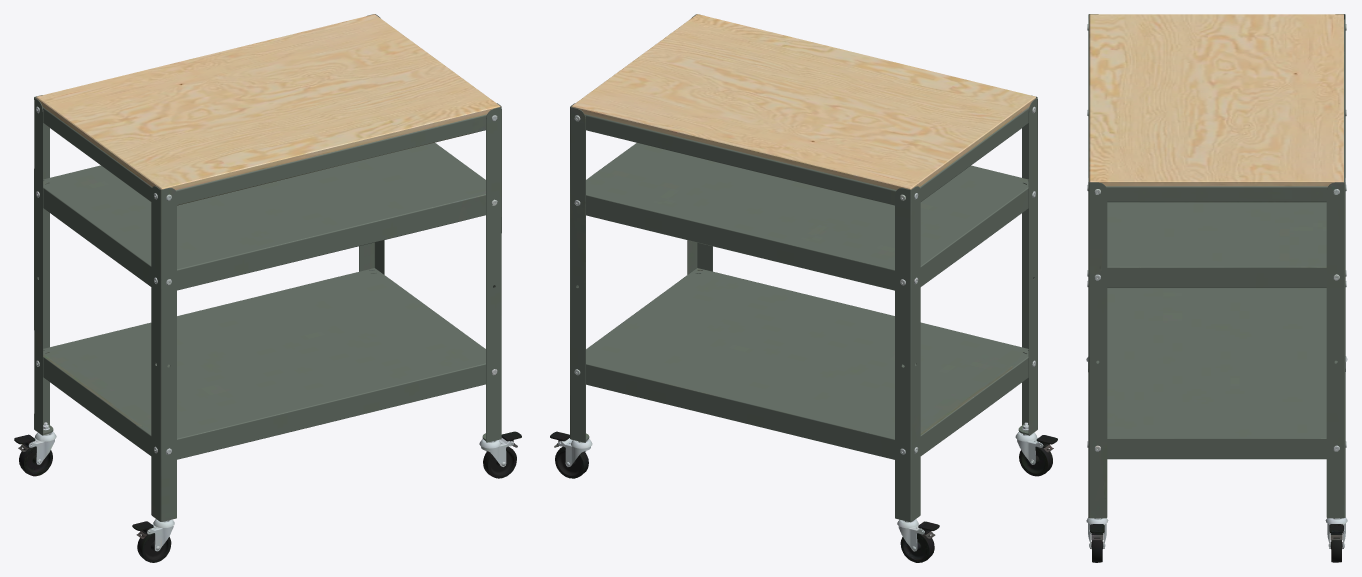
File: 80547384-mini-unity.glb
3 views of the same model, side by side, from view 1: azimuth 30°, elevation 25°; view 2: azimuth 150°, elevation 25°; view 3: azimuth 270°, elevation 25° (orthographic).
Visible parts, largest first — view 1: model; view 2: model; view 3: model.
Part boxes in pixels (x1=…): model: x1=14, y1=14, x2=521, y2=562; model: x1=550, y1=14, x2=1057, y2=562; model: x1=1086, y1=14, x2=1347, y2=562.
Size of the model in its own units: 0.953 by 0.8855 by 0.5535.
1 material, 1 textured.
